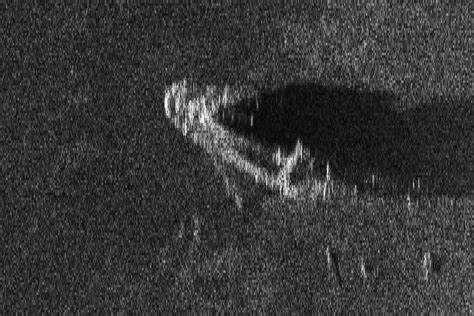ship: (162, 78, 339, 203)
